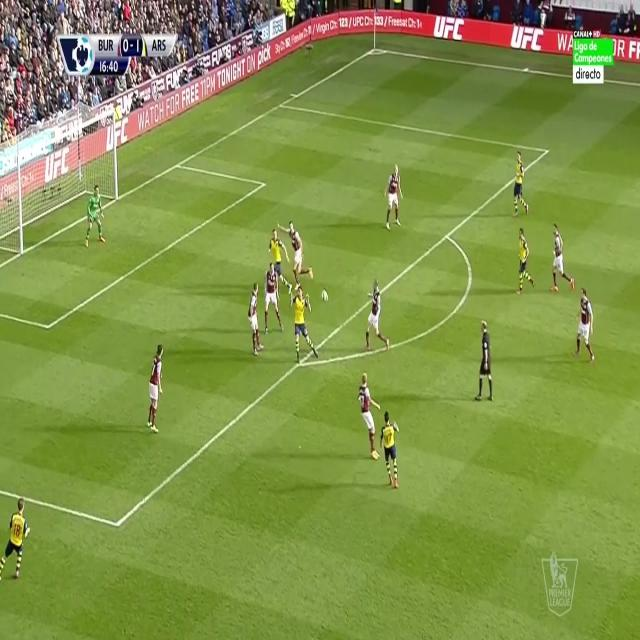Ball: (320, 284, 330, 306)
Goalkeeper: (82, 182, 108, 250)
Player: (274, 219, 316, 290), (0, 497, 32, 582), (289, 285, 322, 367), (356, 369, 382, 465), (363, 276, 392, 354), (549, 219, 579, 293), (572, 286, 598, 365), (379, 409, 401, 493), (267, 228, 294, 295), (146, 341, 164, 440), (262, 264, 286, 336), (516, 225, 536, 298), (383, 163, 404, 231), (248, 281, 265, 359), (513, 150, 530, 223)
Referee: (472, 316, 498, 406)
